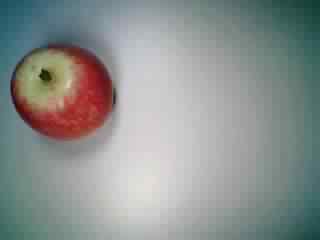apple: (10, 38, 114, 142)
